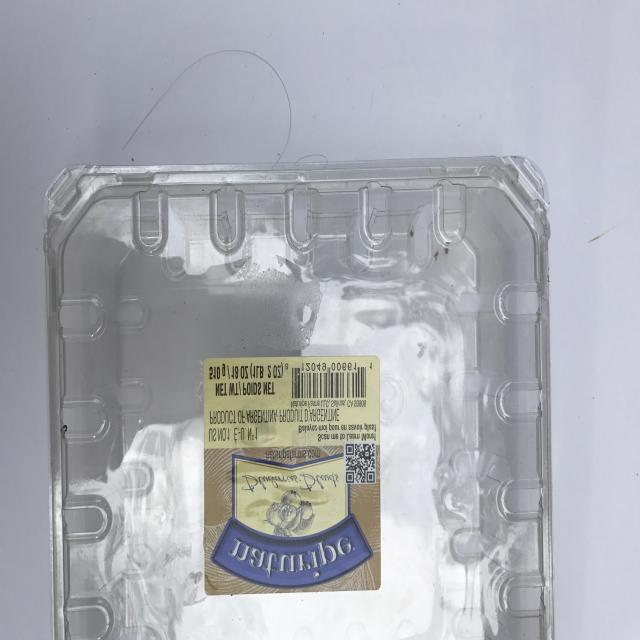plastic: (44, 154, 553, 640)
